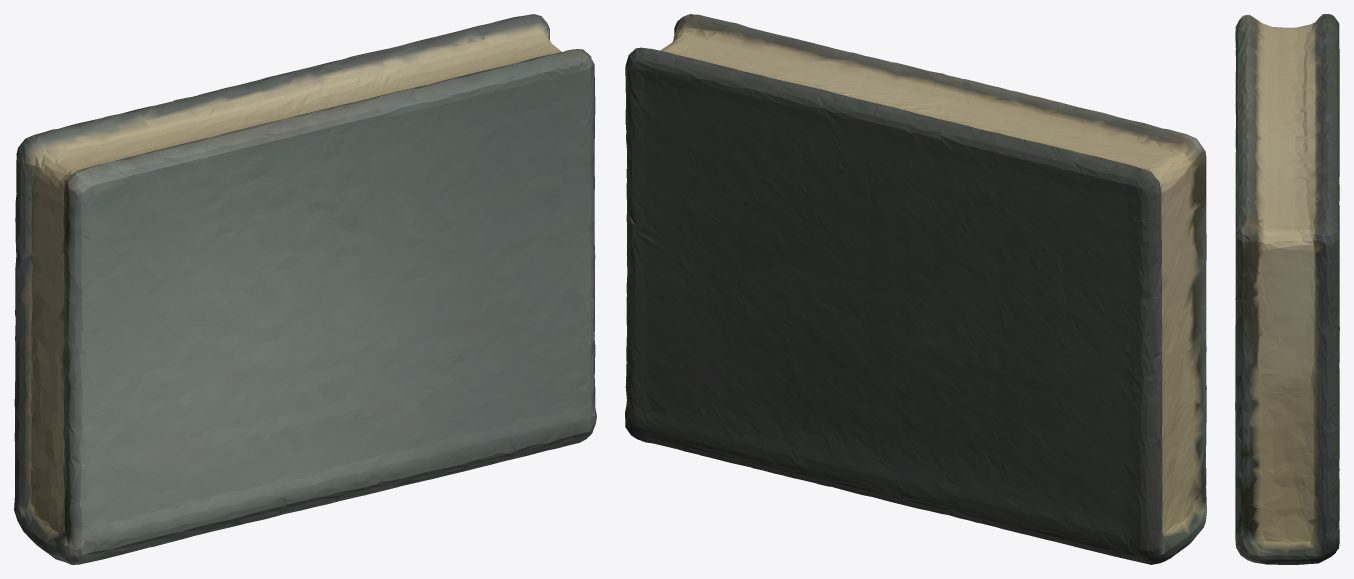
Rendered from book_1.glb.
3 views of the same model, side by side, from view 1: azimuth 30°, elevation 25°; view 2: azimuth 150°, elevation 25°; view 3: azimuth 270°, elevation 25° (orthographic). The views are drawn at different scales.
Parts seen in each view (by area): view 1: geometry_0; view 2: geometry_0; view 3: geometry_0.
Boxes of the visible parts, x1,y1,x2,y2 form: geometry_0: (14, 14, 596, 564); geometry_0: (625, 14, 1206, 564); geometry_0: (1235, 14, 1339, 564).
Size of the model in its own units: 1 by 0.7179 by 0.199.
